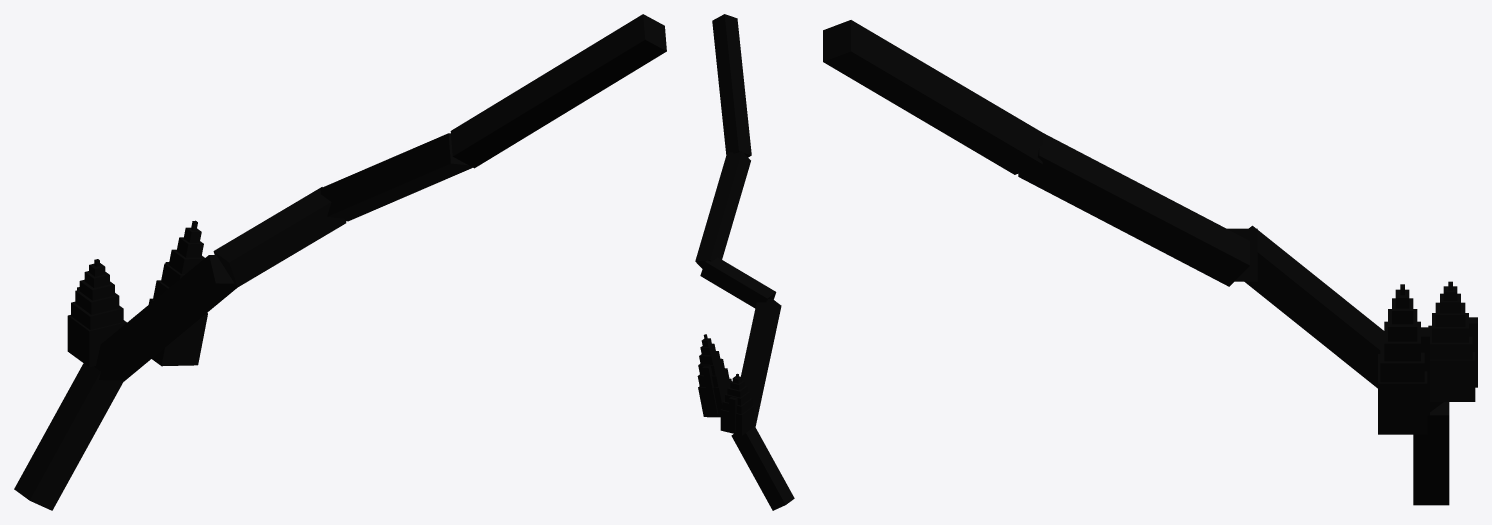
The model's file is lab_stair_eroded_growth.obj.
3 views of the same model, side by side, from view 1: azimuth 30°, elevation 25°; view 2: azimuth 150°, elevation 25°; view 3: azimuth 270°, elevation 25° (orthographic). The views are drawn at different scales.
Bounding box in the file's own units: 0.672 × 0.9763 × 0.8541.
